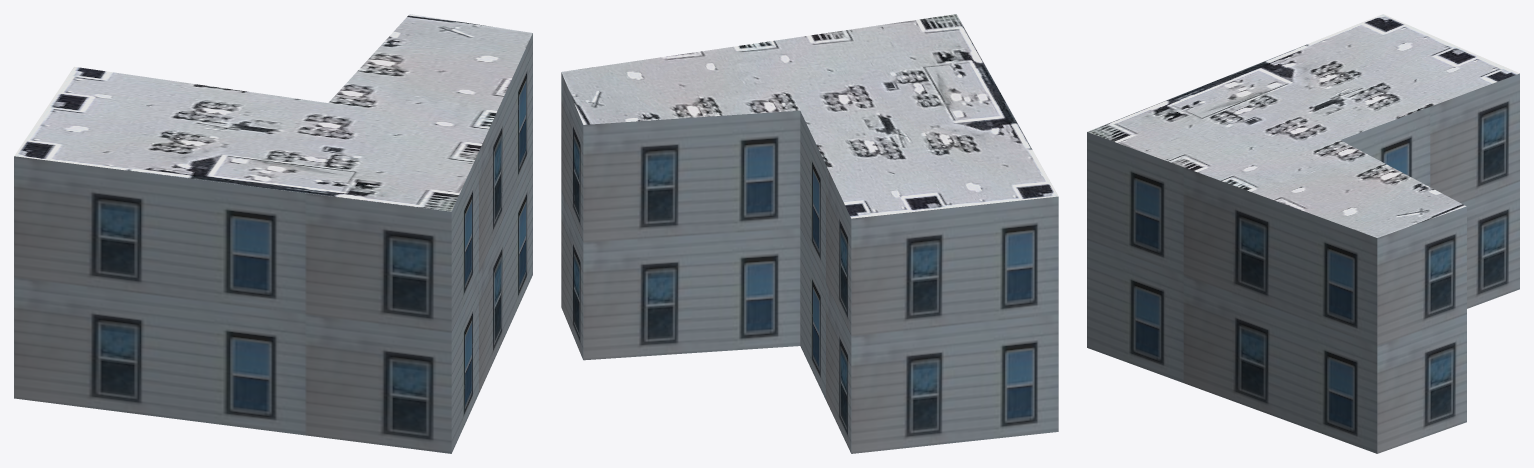
File: ResTex__1325.fbx
3 renders of one model, left to right at view 1: azimuth 30°, elevation 25°; view 2: azimuth 150°, elevation 25°; view 3: azimuth 270°, elevation 25°, orthographic. The views are drawn at different scales.
Visible parts, largest first — view 1: CityEngineMaterial_18_m, CityEngineMaterial_m; view 2: CityEngineMaterial_18_m, CityEngineMaterial_m; view 3: CityEngineMaterial_18_m, CityEngineMaterial_m.
Boxes of the visible parts, box(x1,y1,x2,y2) form: CityEngineMaterial_18_m: box(14, 33, 532, 453); CityEngineMaterial_m: box(14, 14, 532, 211); CityEngineMaterial_18_m: box(561, 72, 1058, 453); CityEngineMaterial_m: box(561, 14, 1058, 218); CityEngineMaterial_18_m: box(1087, 73, 1519, 453); CityEngineMaterial_m: box(1087, 14, 1519, 237).
Bounding box in the file's own units: 13.36 × 6 × 10.9.
2 materials, 2 textured.
